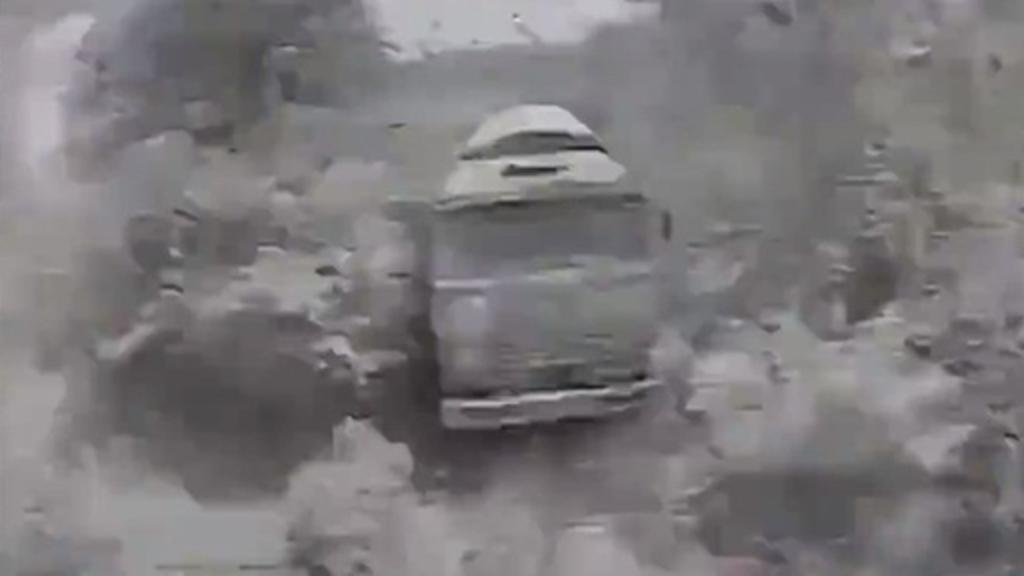TRUCK: (408, 86, 670, 434)
